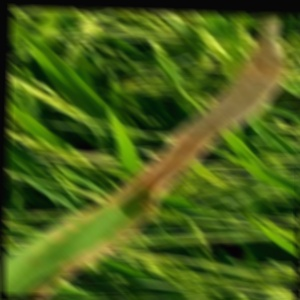Leaf_Blast: (14, 172, 159, 300)
